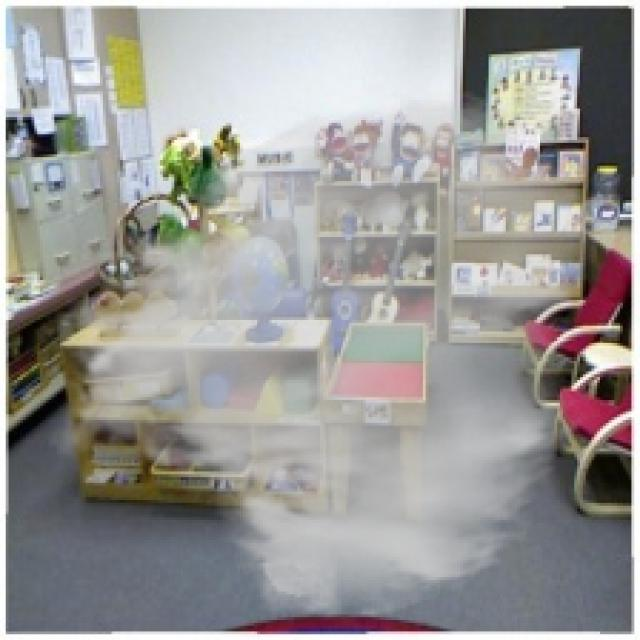smoke: (46, 86, 603, 623)
